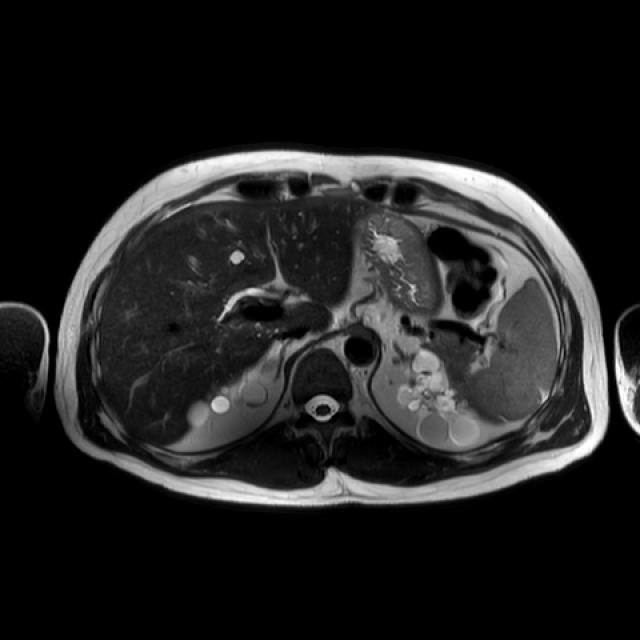sag: (188, 341, 285, 428)
sol: (396, 350, 483, 445)
